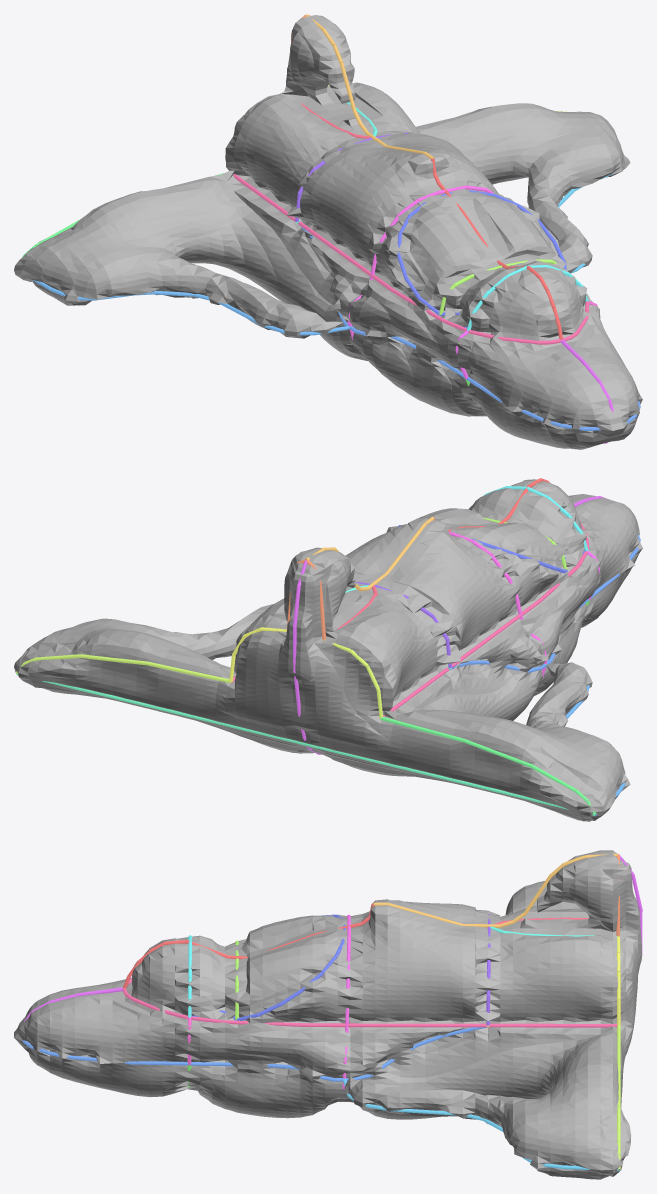
Rendered from t2f_fighter.gltf.
The picture shows the model from 3 angles, top to bottom: view 1: azimuth 30°, elevation 25°; view 2: azimuth 150°, elevation 25°; view 3: azimuth 270°, elevation 25°; orthographic projection. The views are drawn at different scales.
Size of the model in its own units: 0.7113 by 0.287 by 0.6765.
